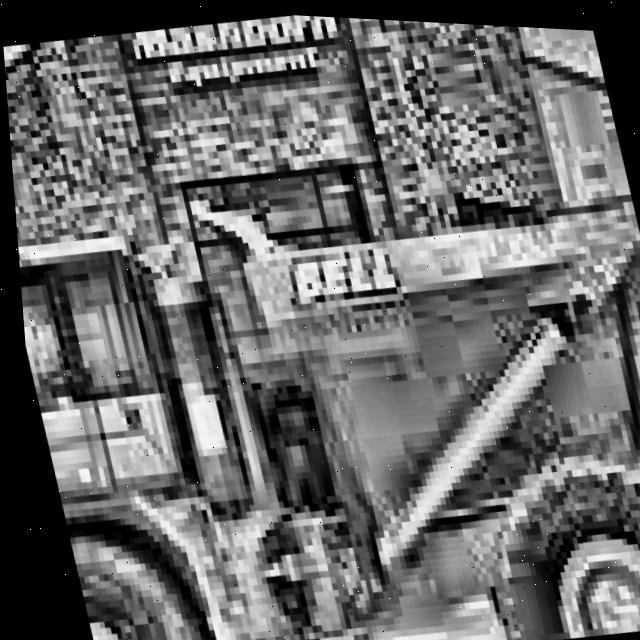dump_truck: (1, 12, 640, 640)
